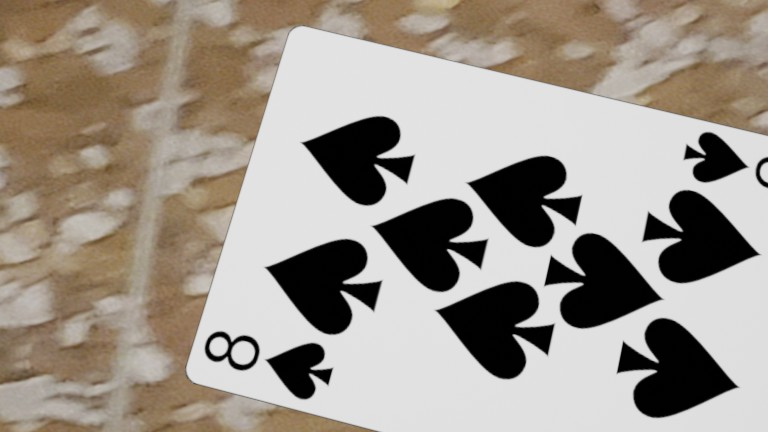8_of_spades: (193, 308, 343, 413), (675, 121, 768, 216)
